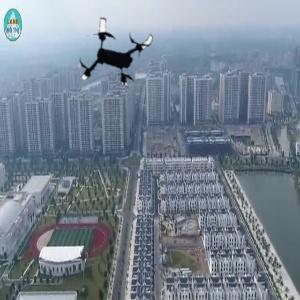drone: (73, 9, 158, 94)
